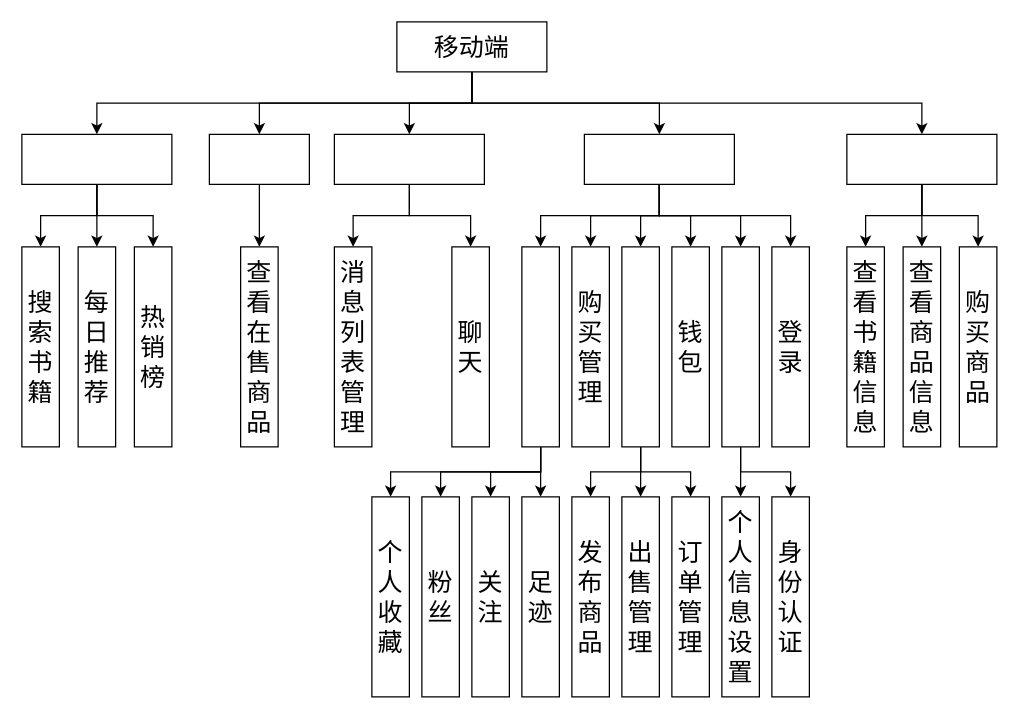
This 1019x719 diagram has some shape labels left out. Here are the shapes that lost their labels. From the top down, the centre of each, then its label:
At (x=96, y=158): "首页".
At (x=258, y=158): "广场".
At (x=408, y=158): "消息".
At (x=658, y=158): "我的".
At (x=921, y=158): "图书".
At (x=540, y=346): "个人基础信息".
At (x=640, y=346): "卖家中心".
At (x=740, y=346): "设置".
